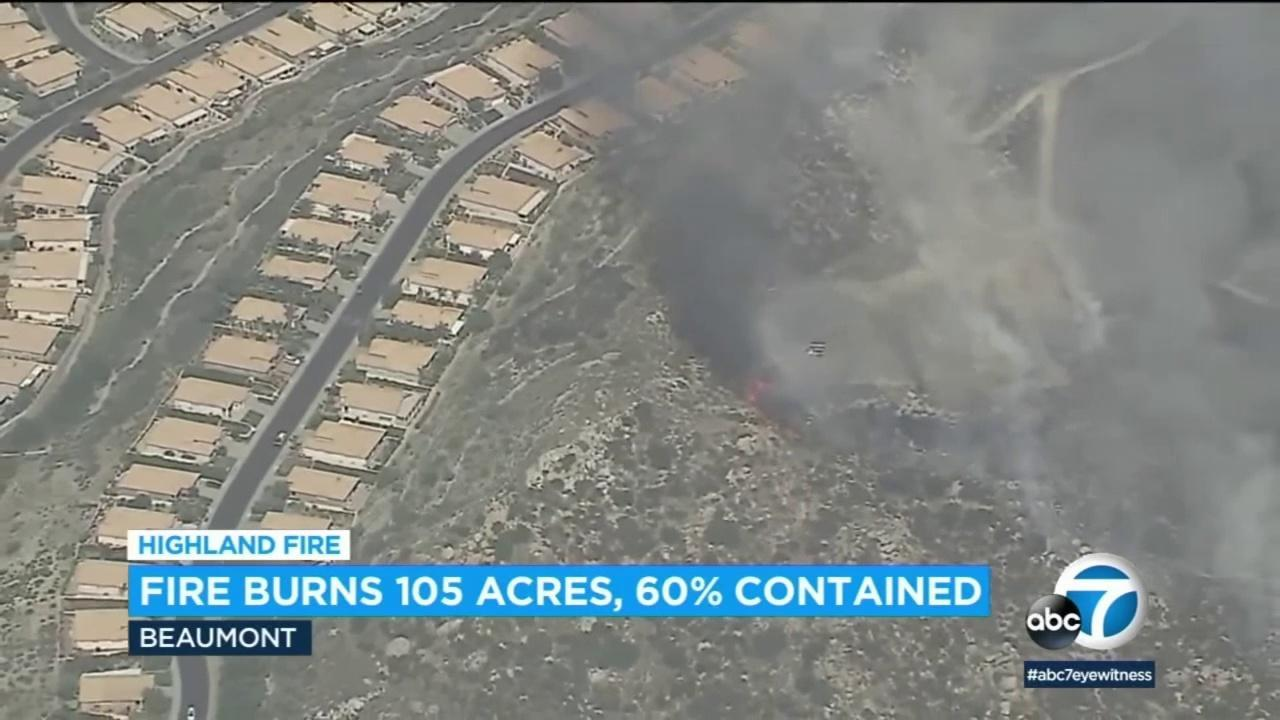fire: (748, 381, 766, 401)
smoke: (536, 3, 1280, 650)
